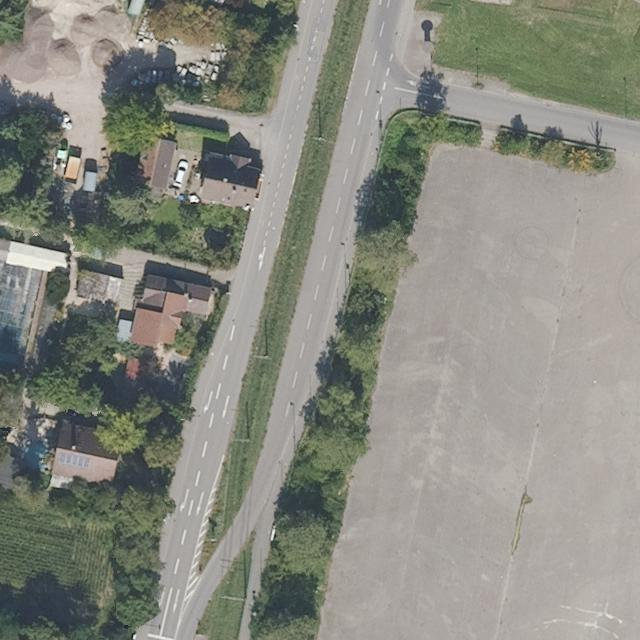PV: (50, 448, 95, 474)
